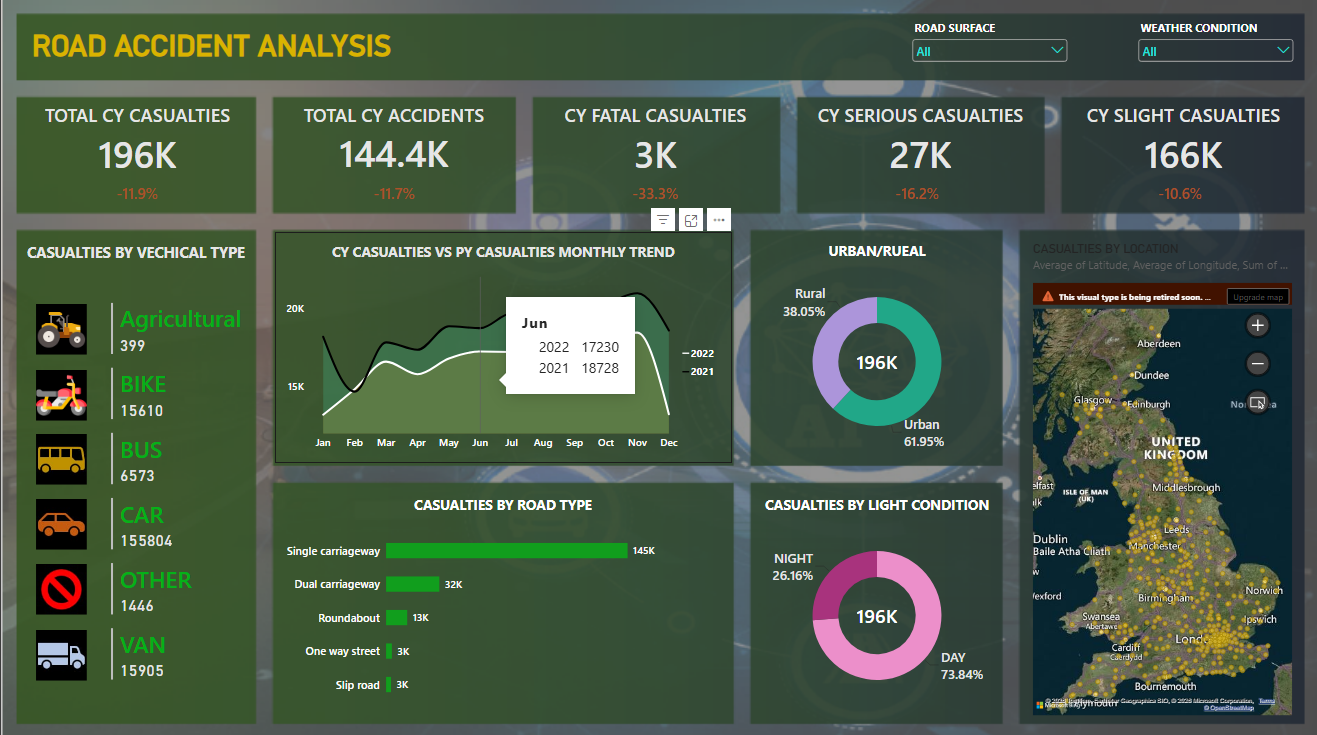

What the dashboard file says about the page in this screenshot:
{"tool":"powerbi","page":{"name":"Page 1","canvas":[1920,1080],"ordinal":0},"visuals":[{"type":"group","id":"g1","title":"Group 1","box":[24.8,148.8,348.7,157.6],"z":0},{"type":"cardVisual","title":"TOTAL CY CASUALTIES","fields":{"Data":["Data.CY Casultites"]},"box":[24.8,148.8,348.7,108],"z":0,"group":"g1"},{"type":"cardVisual","title":"TOTAL CY ACCIDENTS","fields":{"Data":["Data.CY Accidents"]},"box":[404.1,148.8,338.5,108],"z":0,"group":"g2"},{"type":"cardVisual","title":"CY FATAL CASUALTIES","fields":{"Data":["Data.CY Casultites"]},"box":[780.5,148.8,348.7,108],"z":0,"group":"g3"},{"type":"cardVisual","title":"CY SLIGHT CASUALTIES","fields":{"Data":["Data.CY Casultites"]},"box":[1550.9,148.8,348.7,108],"z":0,"group":"g5"},{"type":"cardVisual","title":"CY SERIOUS CASUALTIES","fields":{"Data":["Data.CY Casultites"]},"box":[1166.9,149.1,348.7,108],"z":0,"group":"g4"},{"type":"group","id":"g2","title":"Group 1","box":[404.1,148.8,338.5,157.6],"z":1000},{"type":"cardVisual","fields":{"Data":["Data.YOY Casualtites"]},"box":[1667.5,256.5,105.8,49.6],"z":1000,"group":"g5"},{"type":"cardVisual","fields":{"Data":["Data.YOY Casualtites"]},"box":[144.7,256.8,109,49.6],"z":1000,"group":"g1"},{"type":"cardVisual","fields":{"Data":["Data.YOY Accident"]},"box":[520.5,256.8,105.8,49.6],"z":1000,"group":"g2"},{"type":"cardVisual","fields":{"Data":["Data.YOY Casualtites"]},"box":[900.4,256.8,109,49.6],"z":1000,"group":"g3"},{"type":"cardVisual","fields":{"Data":["Data.YOY Casualtites"]},"box":[1283.5,256.8,105.8,49.6],"z":1000,"group":"g4"},{"type":"group","id":"g3","title":"Group 1","box":[780.5,148.8,348.7,157.6],"z":2000},{"type":"group","id":"g4","title":"Group 1","box":[1166.9,149.1,348.7,157.3],"z":3000},{"type":"group","id":"g5","title":"Group 1","box":[1550.9,148.8,348.7,157.6],"z":4000},{"type":"textbox","box":[24.8,42.3,564.6,71.5],"z":5000},{"type":"multiRowCard","fields":{"Values":["Data.Vehicle_Type (groups) 2","Data.CY Casultites"]},"box":[144.4,427.5,229.1,631.7],"z":6000},{"type":"image","box":[48.1,443.5,80.2,74.4],"z":7000},{"type":"image","box":[48.1,539.8,80.2,74.4],"z":8000},{"type":"image","box":[48.1,919.1,80.2,74.4],"z":9000},{"type":"image","box":[48.1,633.2,80.2,74.4],"z":10000},{"type":"image","box":[48.1,728,80.2,74.4],"z":11000},{"type":"image","box":[48.1,822.9,80.2,74.4],"z":12000},{"type":"textbox","box":[37.9,353.1,335.6,43.8],"z":13000},{"type":"areaChart","title":"CY CASUALTIES VS PY CASUALTIES MONTHLY TREND","fields":{"Category":["Calander.Month"],"Series":["Calander.Date.Variation.Date Hierarchy.Year"],"Y":["Sum(Data.Number_of_Casualties)"]},"box":[400,338,666,338],"z":14000},{"type":"donutChart","title":"URBAN/RUEAL","fields":{"Category":["Data.Urban_or_Rural_Area"],"Y":["Data.CY Casultites"]},"box":[1095.7,337,364.7,339.9],"z":15000},{"type":"donutChart","title":"CASUALTIES BY LIGHT CONDITION","fields":{"Category":["Data.Light_Conditions (groups)"],"Y":["Data.CY Casultites"]},"box":[1095.7,707.6,364.7,339.9],"z":16000},{"type":"barChart","title":"CASUALTIES BY ROAD TYPE","fields":{"Category":["Data.Road_Type"],"Y":["Data.CY Casultites"]},"box":[399.8,707.6,665.3,339.9],"z":17000},{"type":"map","title":"CASUALTIES BY LOCATION","fields":{"Category":["Data.Local_Authority_(District)"],"X":["Data.Longitude"],"Y":["Data.Latitude"]},"box":[1489.6,338.5,410,720.7],"z":18000},{"type":"slicer","fields":{"Values":["Data.Weather_Conditions (groups)"]},"box":[1654.5,29.2,236.4,84.6],"z":18001},{"type":"slicer","fields":{"Values":["Data.Road_Surface_Conditions (groups)"]},"box":[1324.7,29.2,236.4,84.6],"z":18002}]}

Visuals, with their boxes in screenshot pixels (x1, y1, x2, y2), scaled from the page's 1920x1080 canvas onto the 1317x735 screenshot:
"Group 1" group: box=[17, 101, 256, 209]
"TOTAL CY CASUALTIES" cardVisual: box=[17, 101, 256, 175]
"TOTAL CY ACCIDENTS" cardVisual: box=[277, 101, 509, 175]
"CY FATAL CASUALTIES" cardVisual: box=[535, 101, 775, 175]
"CY SLIGHT CASUALTIES" cardVisual: box=[1064, 101, 1303, 175]
"CY SERIOUS CASUALTIES" cardVisual: box=[800, 101, 1040, 175]
"Group 1" group: box=[277, 101, 509, 209]
cardVisual - Data.YOY Casualtites: box=[1144, 175, 1216, 208]
cardVisual - Data.YOY Casualtites: box=[99, 175, 174, 209]
cardVisual - Data.YOY Accident: box=[357, 175, 430, 209]
cardVisual - Data.YOY Casualtites: box=[618, 175, 692, 209]
cardVisual - Data.YOY Casualtites: box=[880, 175, 953, 209]
"Group 1" group: box=[535, 101, 775, 209]
"Group 1" group: box=[800, 101, 1040, 209]
"Group 1" group: box=[1064, 101, 1303, 209]
textbox: box=[17, 29, 404, 77]
multiRowCard - Data.Vehicle_Type (groups) 2 x Data.CY Casultites: box=[99, 291, 256, 721]
image: box=[33, 302, 88, 352]
image: box=[33, 367, 88, 418]
image: box=[33, 625, 88, 676]
image: box=[33, 431, 88, 482]
image: box=[33, 495, 88, 546]
image: box=[33, 560, 88, 611]
textbox: box=[26, 240, 256, 270]
"CY CASUALTIES VS PY CASUALTIES MONTHLY TREND" areaChart: box=[274, 230, 731, 460]
"URBAN/RUEAL" donutChart: box=[752, 229, 1002, 461]
"CASUALTIES BY LIGHT CONDITION" donutChart: box=[752, 482, 1002, 713]
"CASUALTIES BY ROAD TYPE" barChart: box=[274, 482, 731, 713]
"CASUALTIES BY LOCATION" map: box=[1022, 230, 1303, 721]
slicer - Data.Weather_Conditions (groups): box=[1135, 20, 1297, 77]
slicer - Data.Road_Surface_Conditions (groups): box=[909, 20, 1071, 77]
